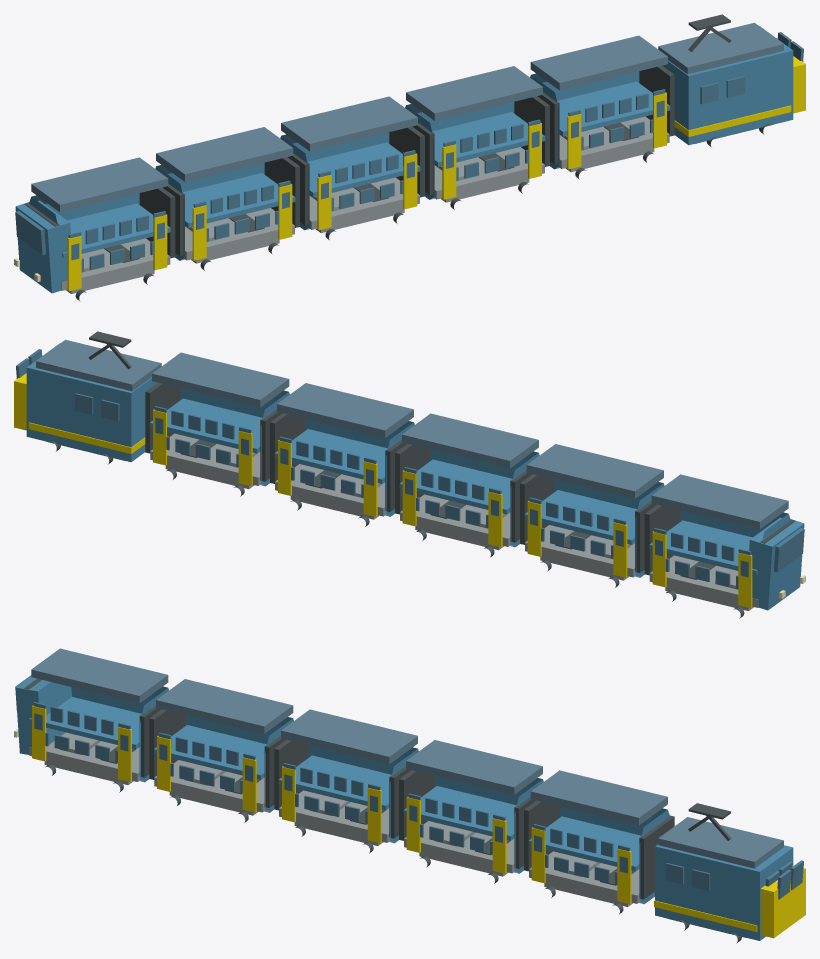
File: metronom.glb
3 renders of one model, top to bottom at view 1: azimuth 30°, elevation 25°; view 2: azimuth 150°, elevation 25°; view 3: azimuth 330°, elevation 25°, orthographic.
Visible parts, largest first — view 1: body_shell, metronom_car_1_roof, metronom_car_5_roof, metronom_car_4_roof, metronom_car_3_roof, metronom_car_2_roof, roof, metronom_car_5_tail_cab_face, metronom_car_3_window_divider, metronom_car_2_window_divider, metronom_car_1_window_divider, metronom_car_4_window_divider (+33 smaller); view 2: body_shell, metronom_car_1_roof, metronom_car_5_roof, metronom_car_4_roof, metronom_car_3_roof, metronom_car_2_roof, roof, metronom_car_5_tail_cab_face, metronom_car_3_window_divider, metronom_car_2_window_divider, metronom_car_1_window_divider, metronom_car_4_window_divider (+33 smaller); view 3: body_shell, metronom_car_1_roof, metronom_car_5_roof, metronom_car_4_roof, metronom_car_3_roof, metronom_car_2_roof, roof, metronom_car_1_window_divider, metronom_car_2_window_divider, metronom_car_3_window_divider, metronom_car_4_window_divider, metronom_car_5_window_divider (+32 smaller).
Boxes of the visible parts, x1=… form: body_shell: x1=662, y1=26, x2=793, y2=145; metronom_car_1_roof: x1=530, y1=35, x2=667, y2=90; metronom_car_5_roof: x1=31, y1=157, x2=168, y2=212; metronom_car_4_roof: x1=156, y1=127, x2=293, y2=181; metronom_car_3_roof: x1=281, y1=96, x2=417, y2=151; metronom_car_2_roof: x1=406, y1=66, x2=542, y2=120; roof: x1=658, y1=22, x2=783, y2=74; metronom_car_5_tail_cab_face: x1=15, y1=200, x2=70, y2=293; metronom_car_3_window_divider: x1=307, y1=142, x2=420, y2=197; metronom_car_2_window_divider: x1=432, y1=112, x2=545, y2=166; metronom_car_1_window_divider: x1=557, y1=81, x2=670, y2=136; metronom_car_4_window_divider: x1=182, y1=173, x2=295, y2=227; body_shell: x1=26, y1=343, x2=157, y2=462; metronom_car_1_roof: x1=152, y1=352, x2=289, y2=407; metronom_car_5_roof: x1=651, y1=474, x2=788, y2=529; metronom_car_4_roof: x1=526, y1=444, x2=663, y2=498; metronom_car_3_roof: x1=402, y1=413, x2=538, y2=468; metronom_car_2_roof: x1=277, y1=383, x2=413, y2=437; roof: x1=36, y1=339, x2=161, y2=391; metronom_car_5_tail_cab_face: x1=749, y1=517, x2=804, y2=610; metronom_car_3_window_divider: x1=399, y1=459, x2=512, y2=514; metronom_car_2_window_divider: x1=274, y1=429, x2=387, y2=483; metronom_car_1_window_divider: x1=149, y1=398, x2=262, y2=453; metronom_car_4_window_divider: x1=524, y1=490, x2=637, y2=544; body_shell: x1=655, y1=844, x2=793, y2=940; metronom_car_1_roof: x1=530, y1=770, x2=667, y2=825; metronom_car_5_roof: x1=31, y1=648, x2=168, y2=703; metronom_car_4_roof: x1=156, y1=679, x2=293, y2=733; metronom_car_3_roof: x1=281, y1=709, x2=417, y2=764; metronom_car_2_roof: x1=406, y1=740, x2=542, y2=794; roof: x1=658, y1=817, x2=783, y2=868; metronom_car_1_window_divider: x1=528, y1=816, x2=641, y2=871; metronom_car_2_window_divider: x1=403, y1=786, x2=516, y2=840; metronom_car_3_window_divider: x1=278, y1=755, x2=391, y2=810; metronom_car_4_window_divider: x1=154, y1=725, x2=266, y2=779; metronom_car_5_window_divider: x1=29, y1=697, x2=141, y2=749.
Size of the model in its own units: 9.52 by 1.32 by 0.791.
